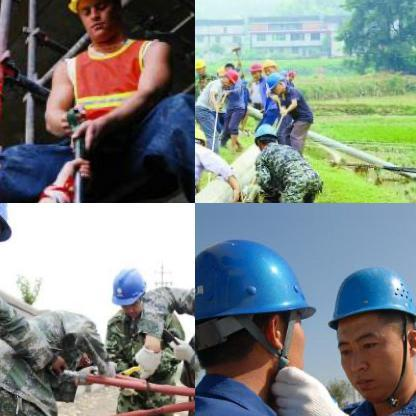Helmet: (195, 227, 311, 393), (314, 254, 415, 409), (60, 0, 133, 48), (107, 262, 149, 316), (0, 209, 21, 259), (251, 120, 277, 150), (265, 70, 285, 92), (195, 121, 209, 151), (219, 66, 238, 84), (262, 56, 278, 74), (247, 58, 261, 78), (195, 56, 206, 74)
